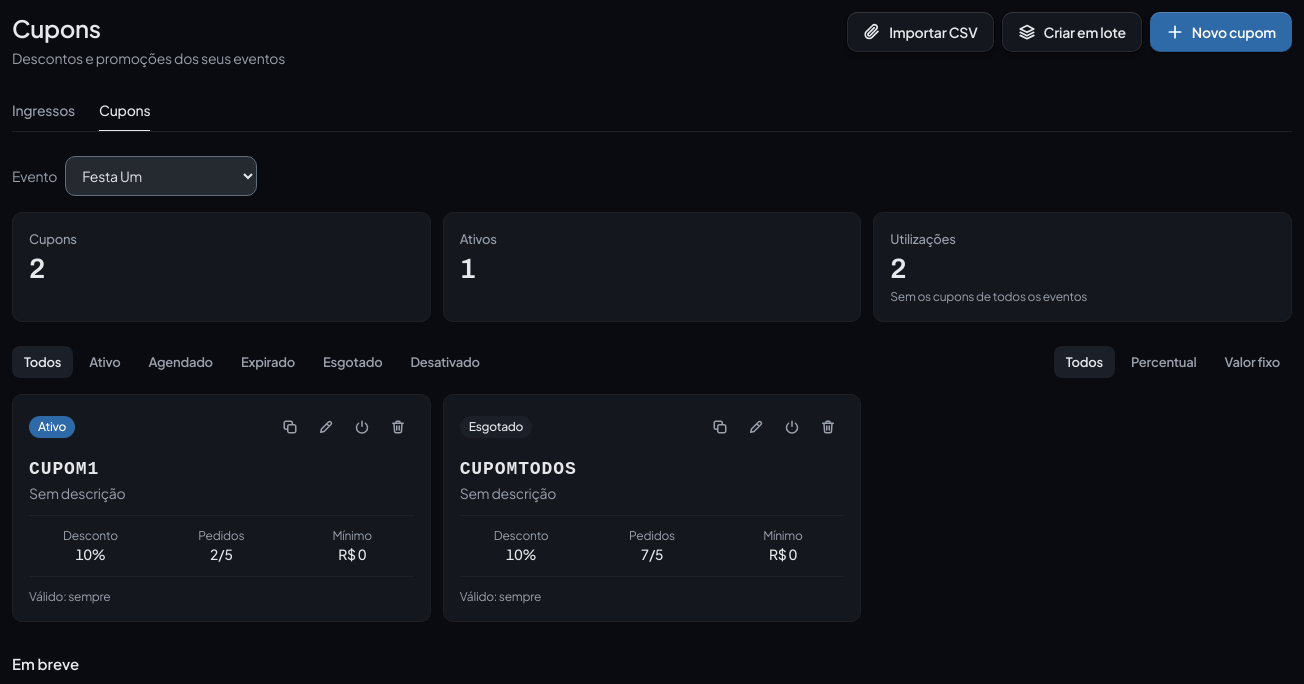
it: Filtro por ?eventId= › Cupons: só os do evento e os de todos os eventos; "Todos os eventos" tira o filtro
Check: the text "CUPOM1" is shown, box [29, 459, 99, 479]
Check: the text "CUPOMTODOS" is shown, box [460, 459, 577, 479]
Select "Todos os eventos" in the dropdown labelled "Evento" at [161, 176], box [65, 156, 257, 196]
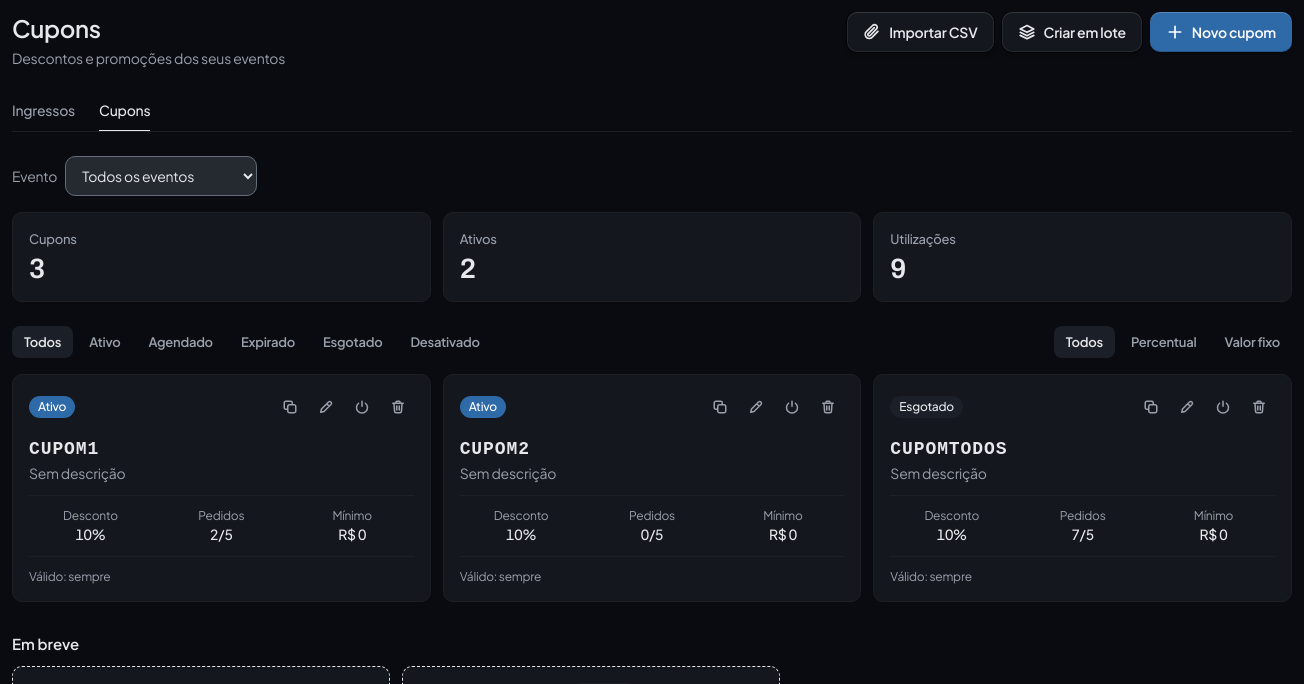
Check: the text "CUPOM2" is shown, box [460, 439, 530, 459]
